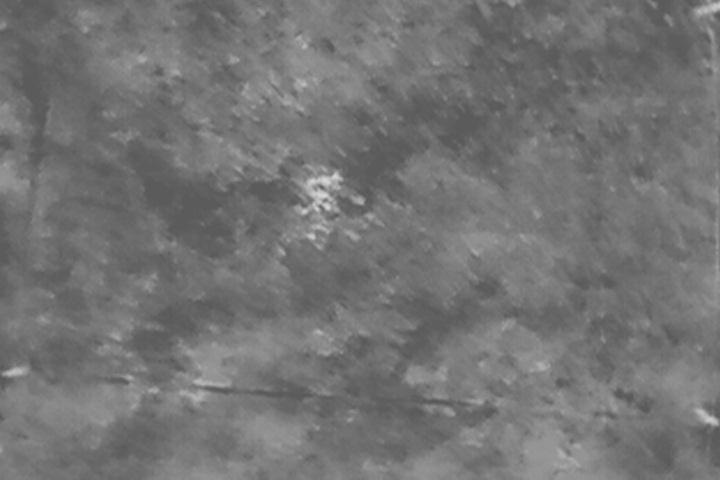landmine: (305, 170, 345, 212)
